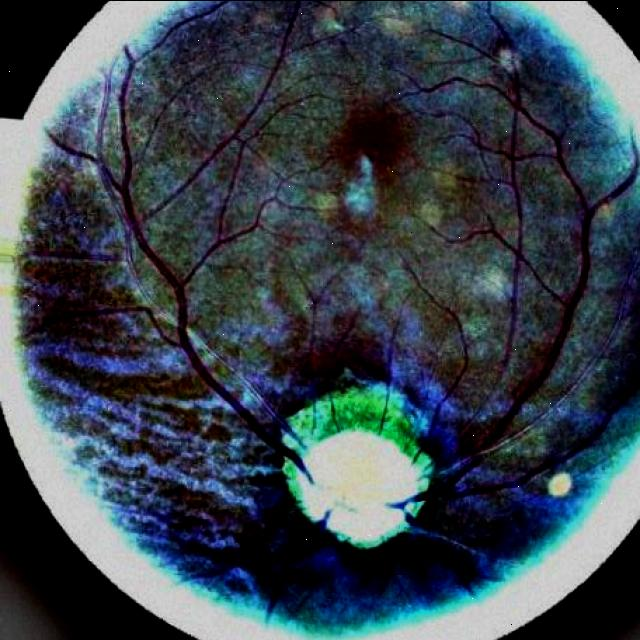Macula: (309, 105, 419, 204)
Nerves: (61, 0, 325, 466), (398, 56, 640, 518)
Optic Disk: (238, 357, 454, 575)
